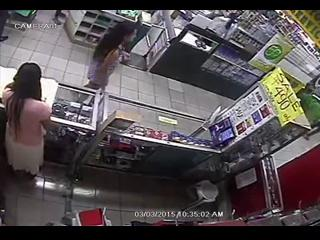Normal: (2, 62, 54, 180), (82, 21, 138, 91), (0, 11, 10, 42)
